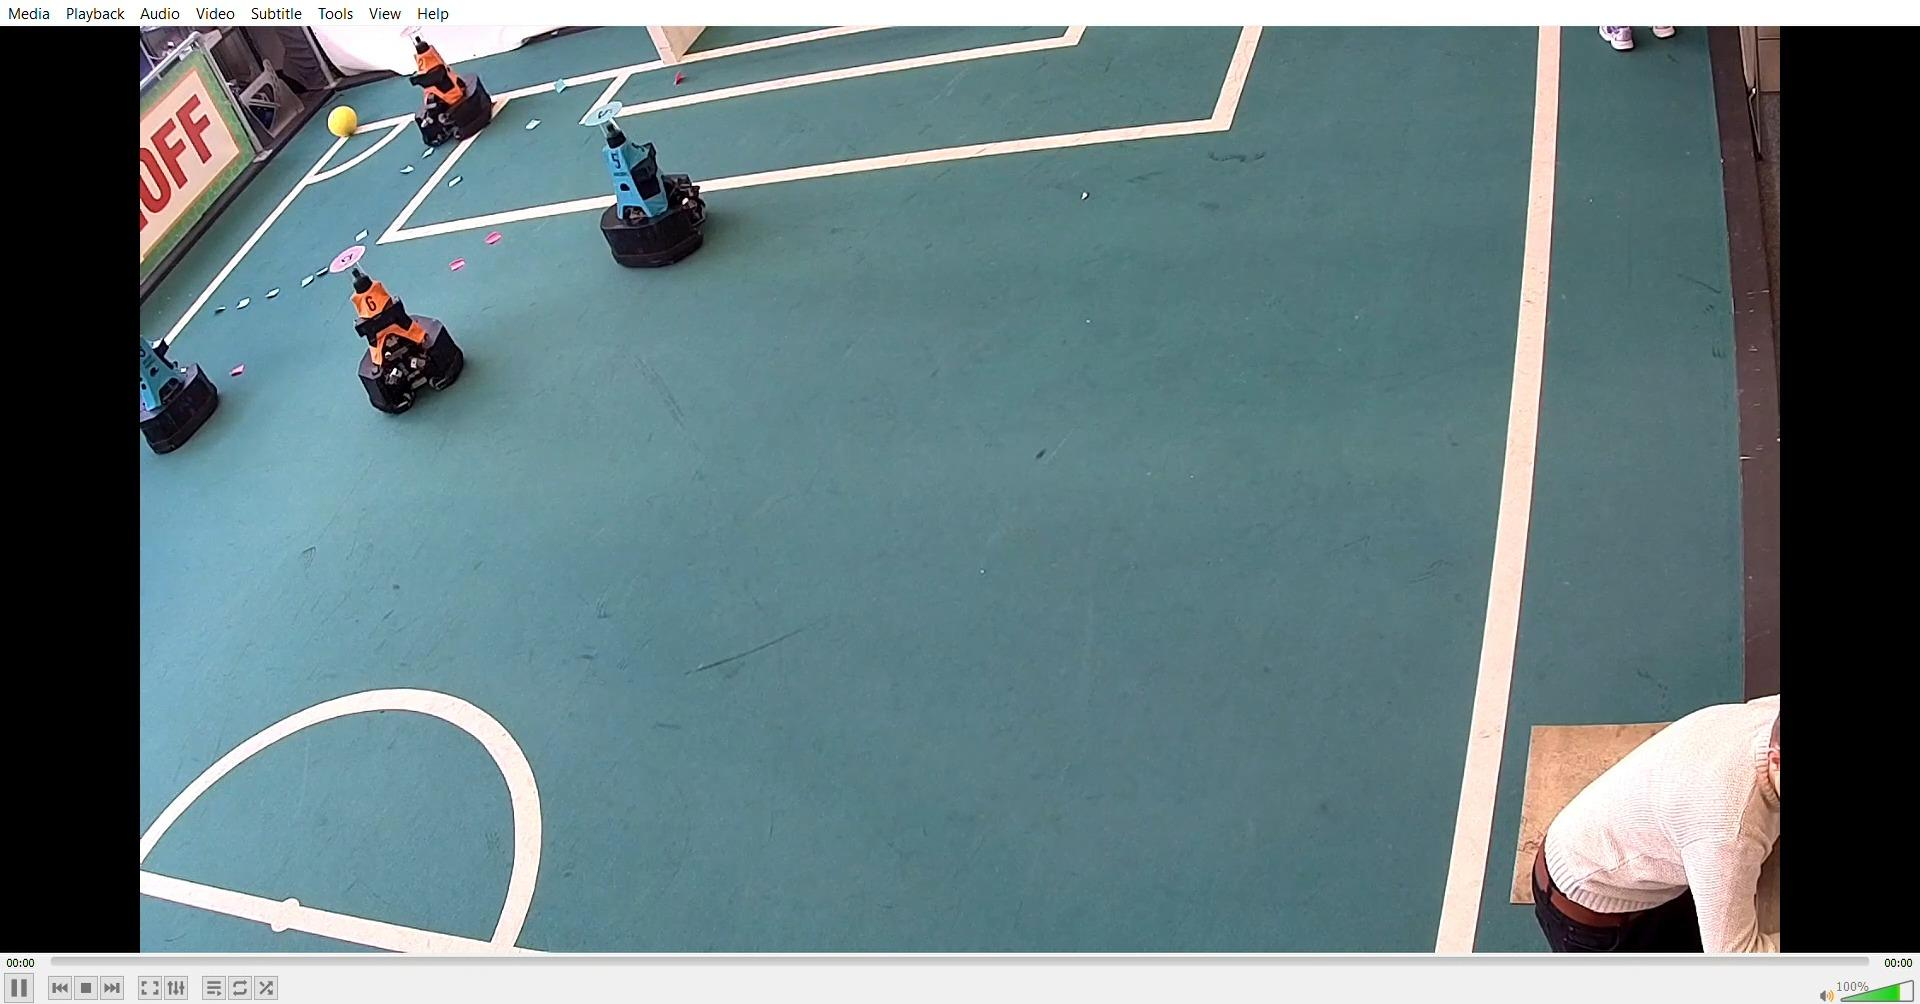Ball: (335, 104, 366, 136)
Team_Blue: (582, 91, 720, 272), (140, 315, 235, 451)
Team_Red: (325, 235, 469, 413), (406, 30, 503, 149)
